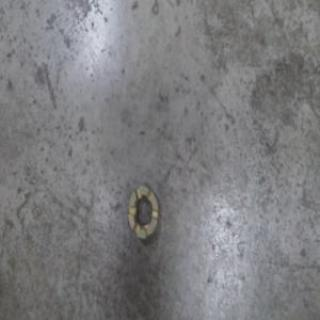Nuttrack_idkeyframe: (126, 179, 160, 242)
